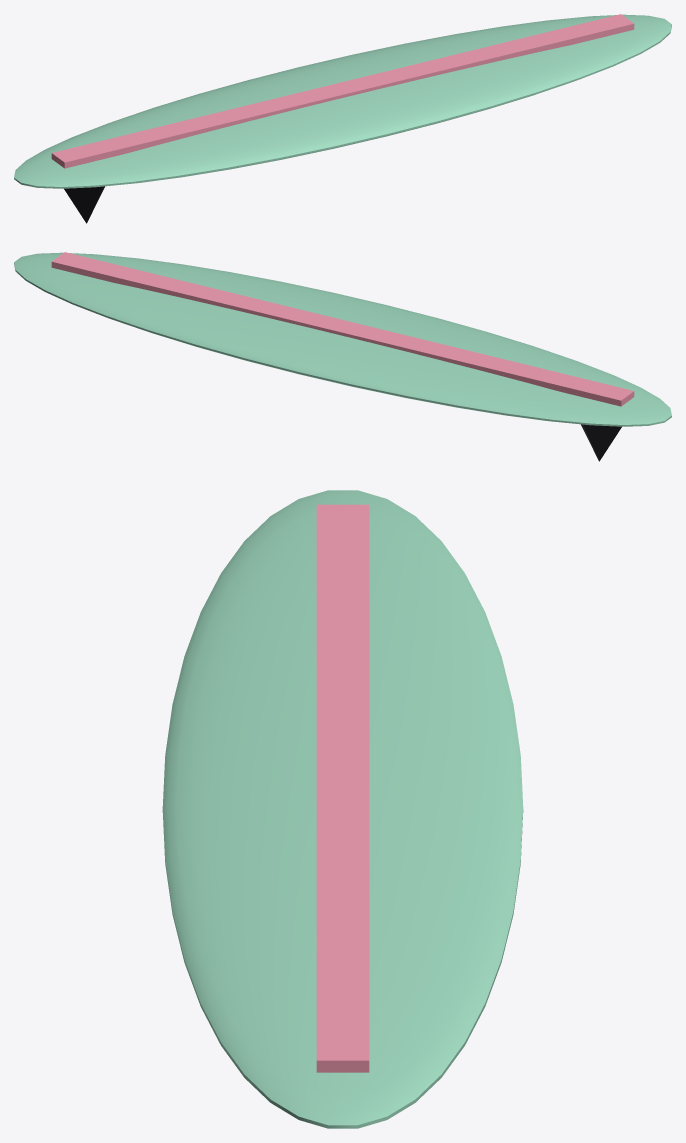
File: surfboard.glb
3 views of the same model, one above another, from view 1: azimuth 30°, elevation 25°; view 2: azimuth 150°, elevation 25°; view 3: azimuth 270°, elevation 25° (orthographic). The views are drawn at different scales.
Visible parts, largest first — view 1: surfboard; view 2: surfboard; view 3: surfboard.
Part boxes in pixels (x1,y1,x2,y2): surfboard: (14, 14, 671, 223); surfboard: (14, 252, 671, 461); surfboard: (162, 490, 523, 1128).
Bounding box in the file's own units: 2.28 × 0.245 × 0.5481.
1 material, 1 textured.
